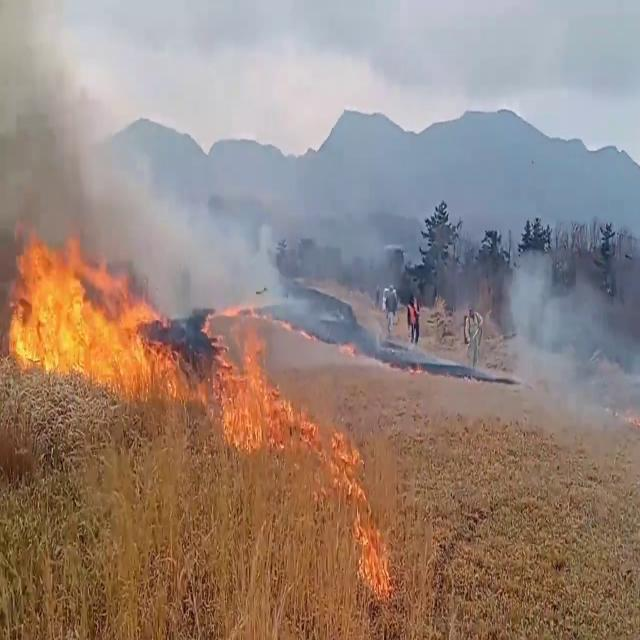Fire: (1, 229, 178, 386), (208, 287, 306, 448), (326, 414, 393, 602)
Smoke: (0, 14, 290, 314), (501, 220, 640, 460)
